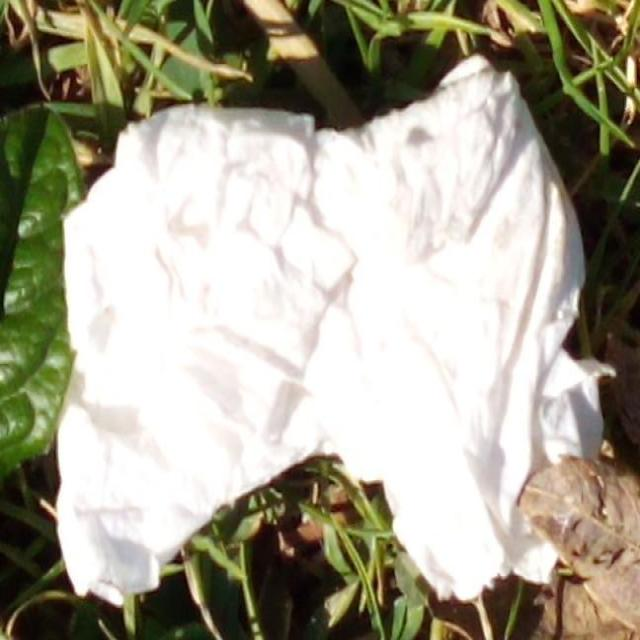litter: (54, 52, 622, 603)
